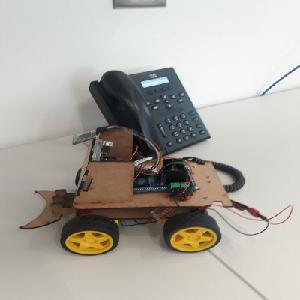Robot: (20, 124, 234, 256)
